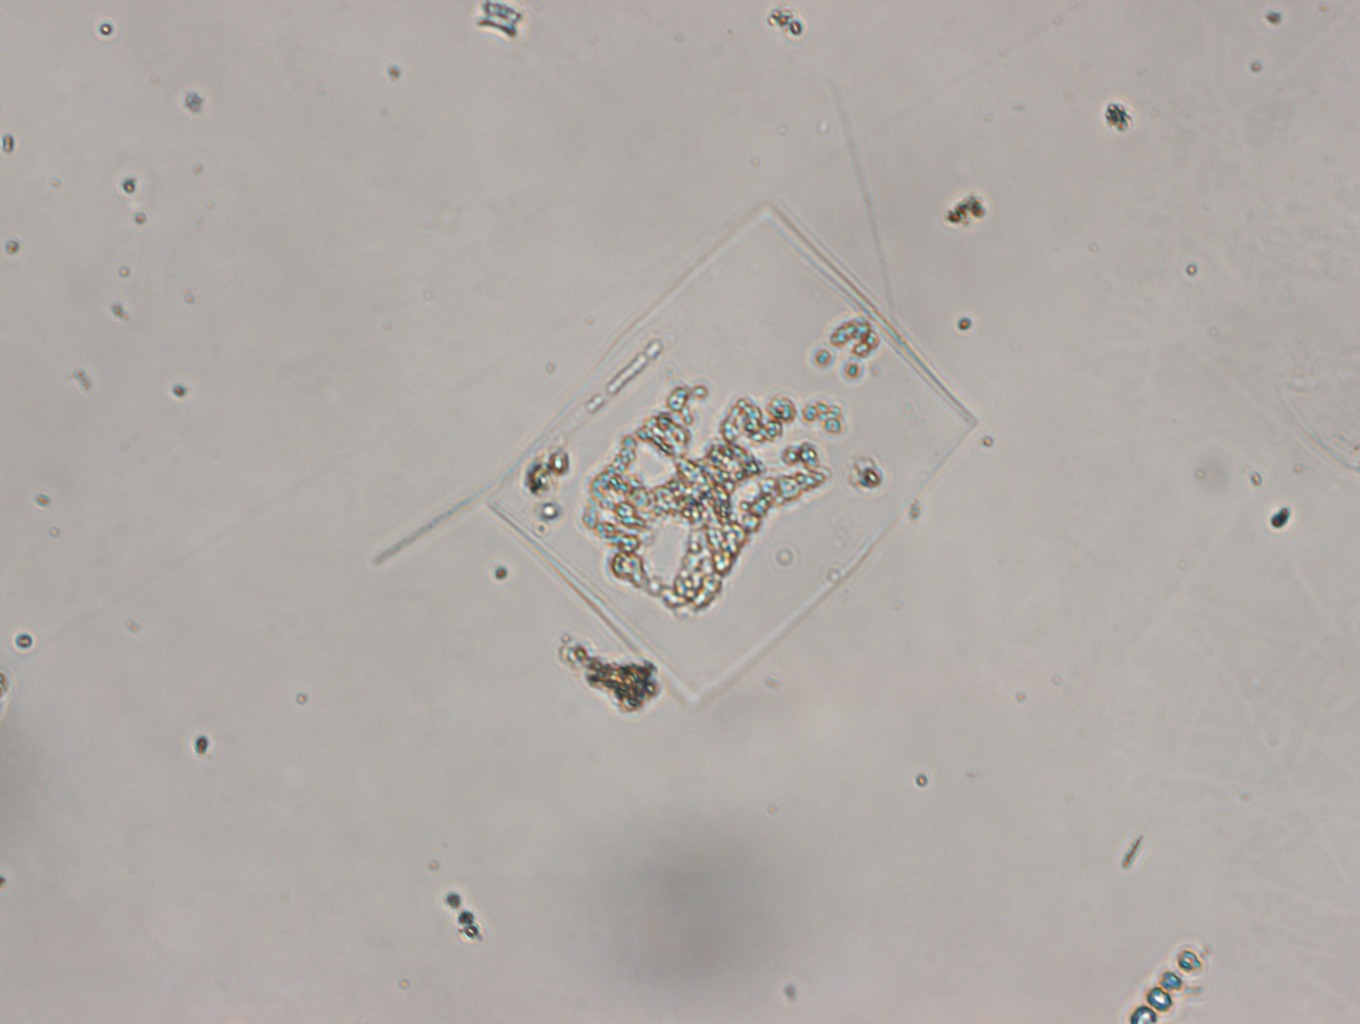helicotheca: (485, 202, 977, 713)
